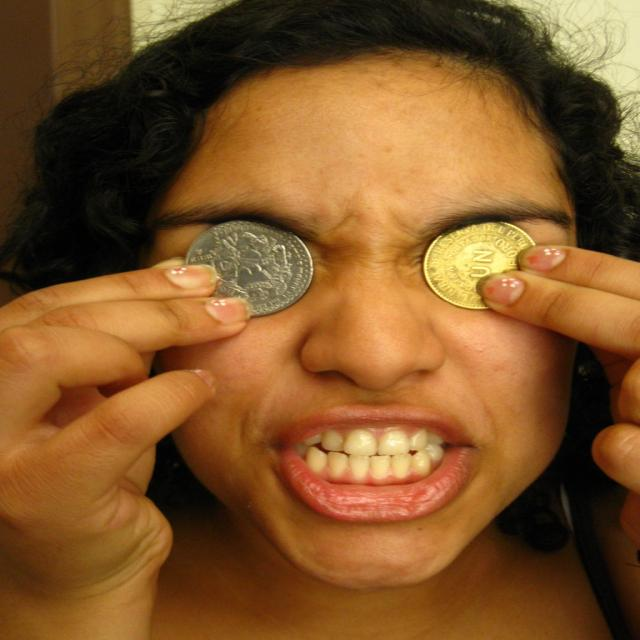Coin: (185, 220, 315, 318), (420, 223, 538, 311)
